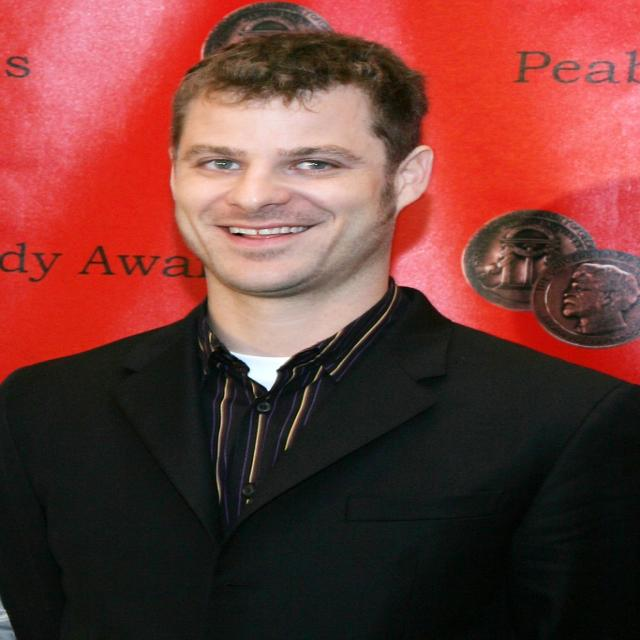Coin: (462, 202, 595, 309), (531, 248, 639, 352), (198, 0, 331, 60)
